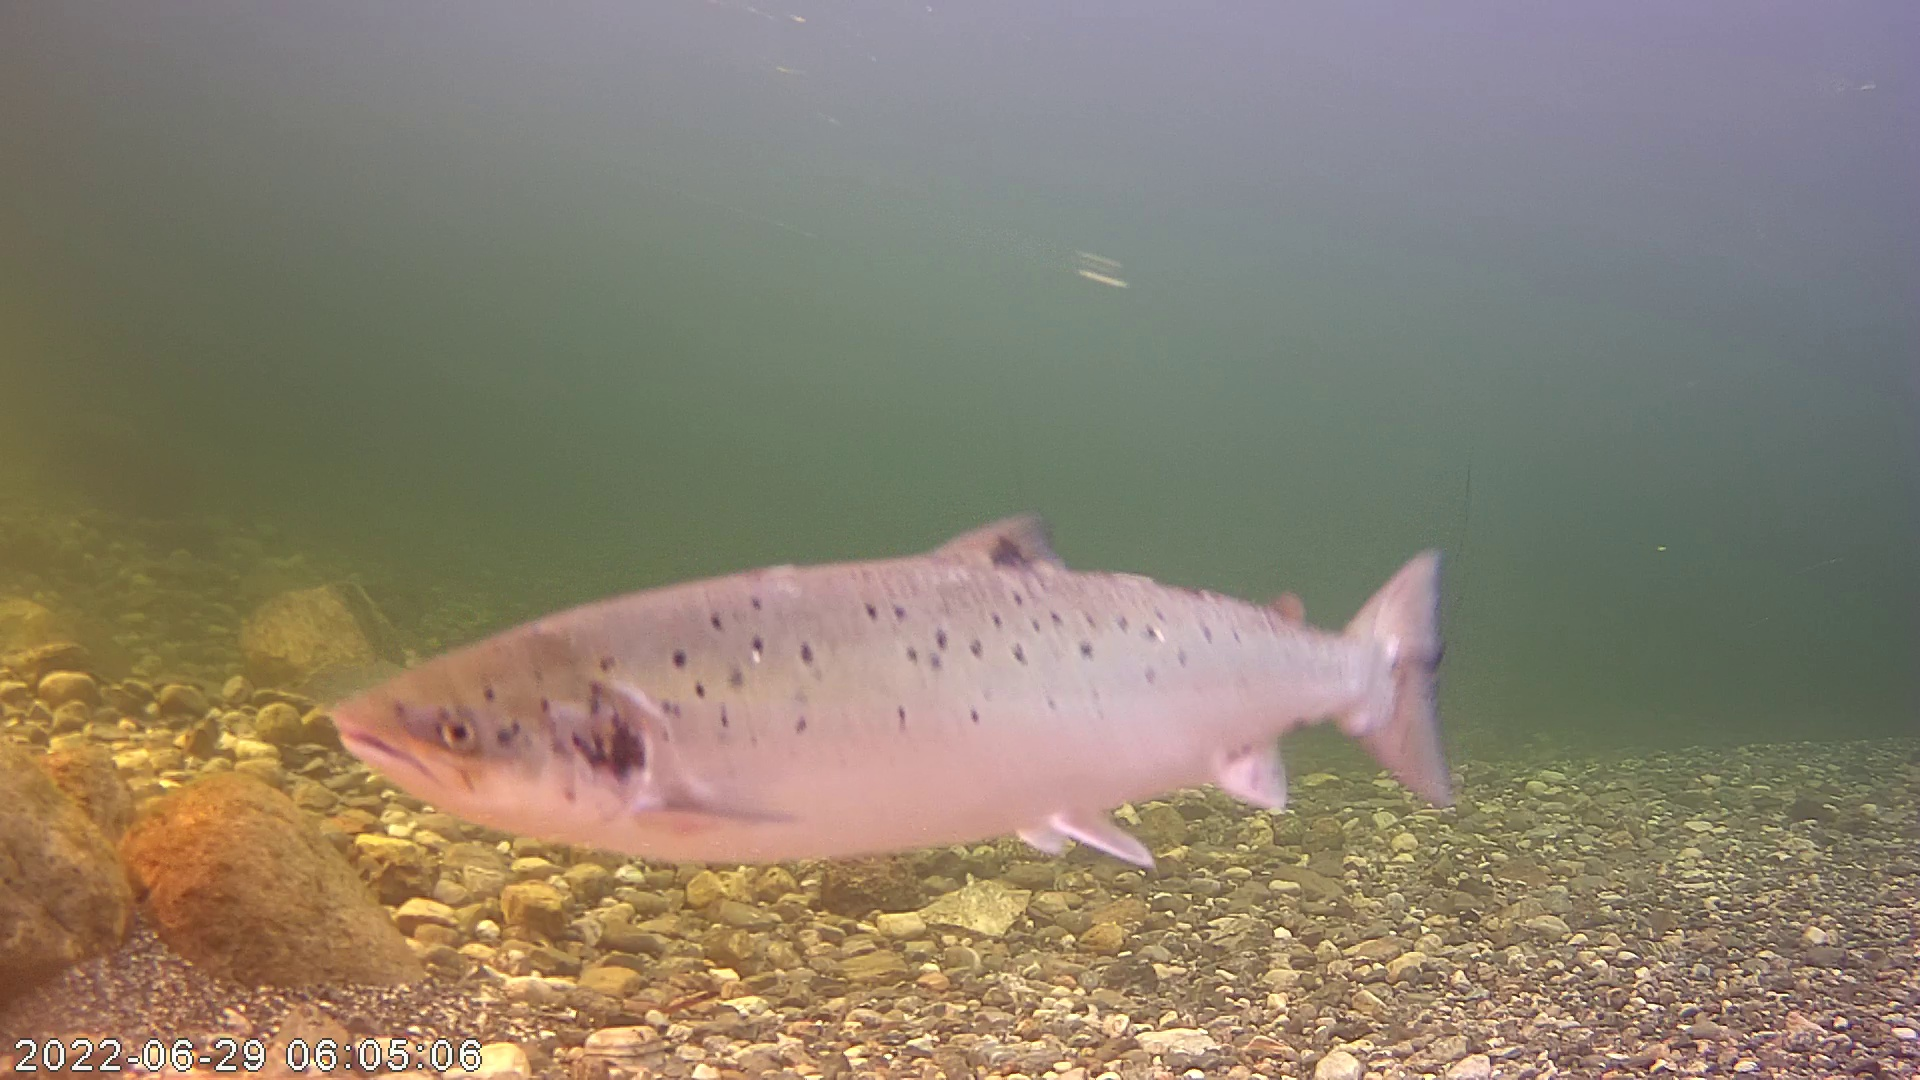salmon: (328, 509, 1455, 874)
